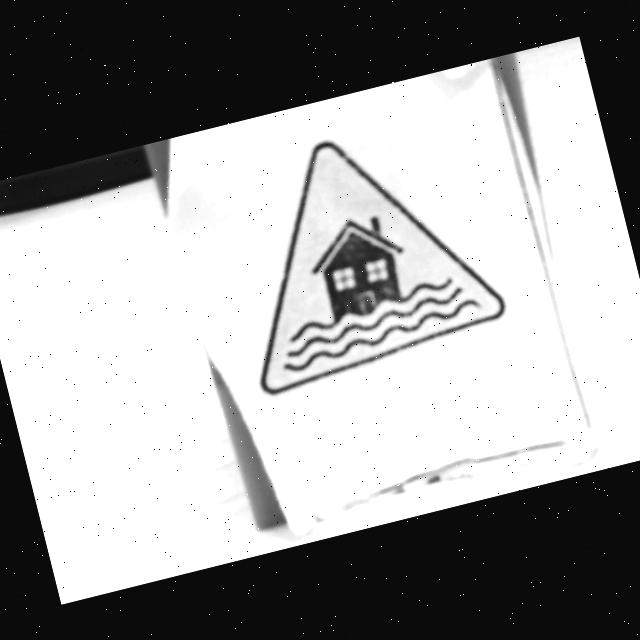Tsunami: (260, 142, 503, 394)
